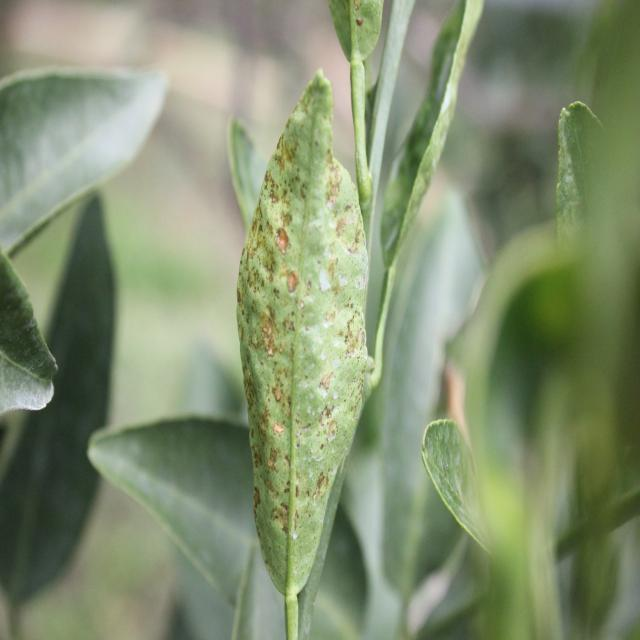canker: (237, 112, 365, 565), (332, 0, 384, 63)
